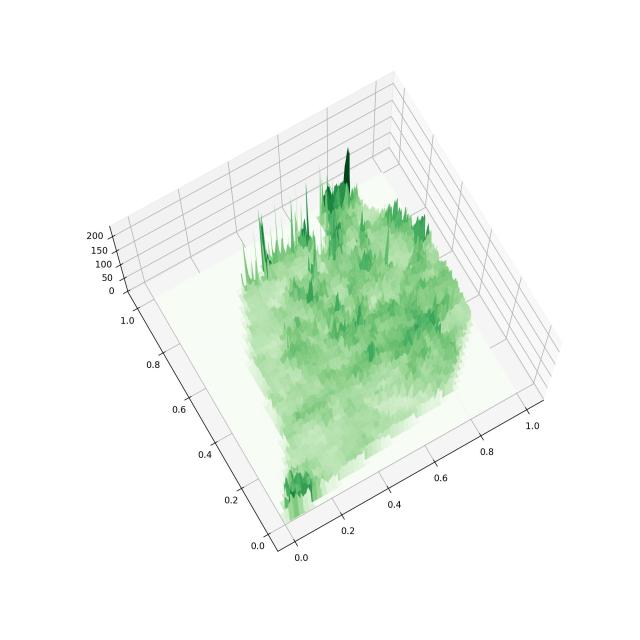fir: (56, 52, 604, 588)
